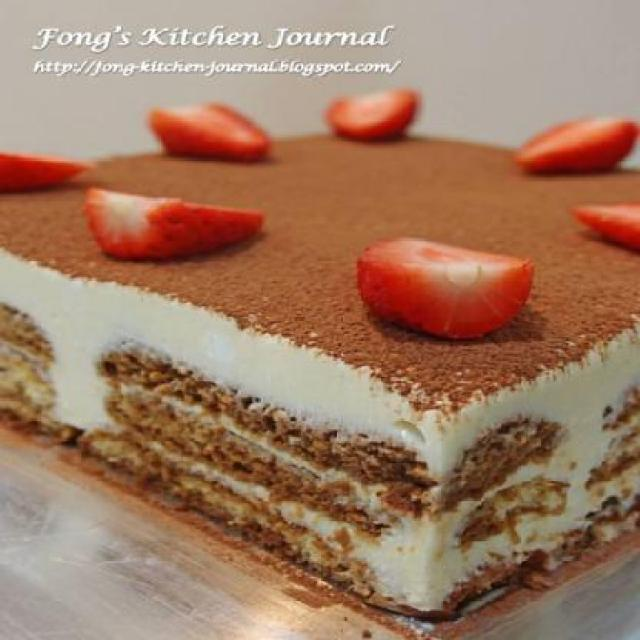Tiramisu: (42, 100, 630, 602)
